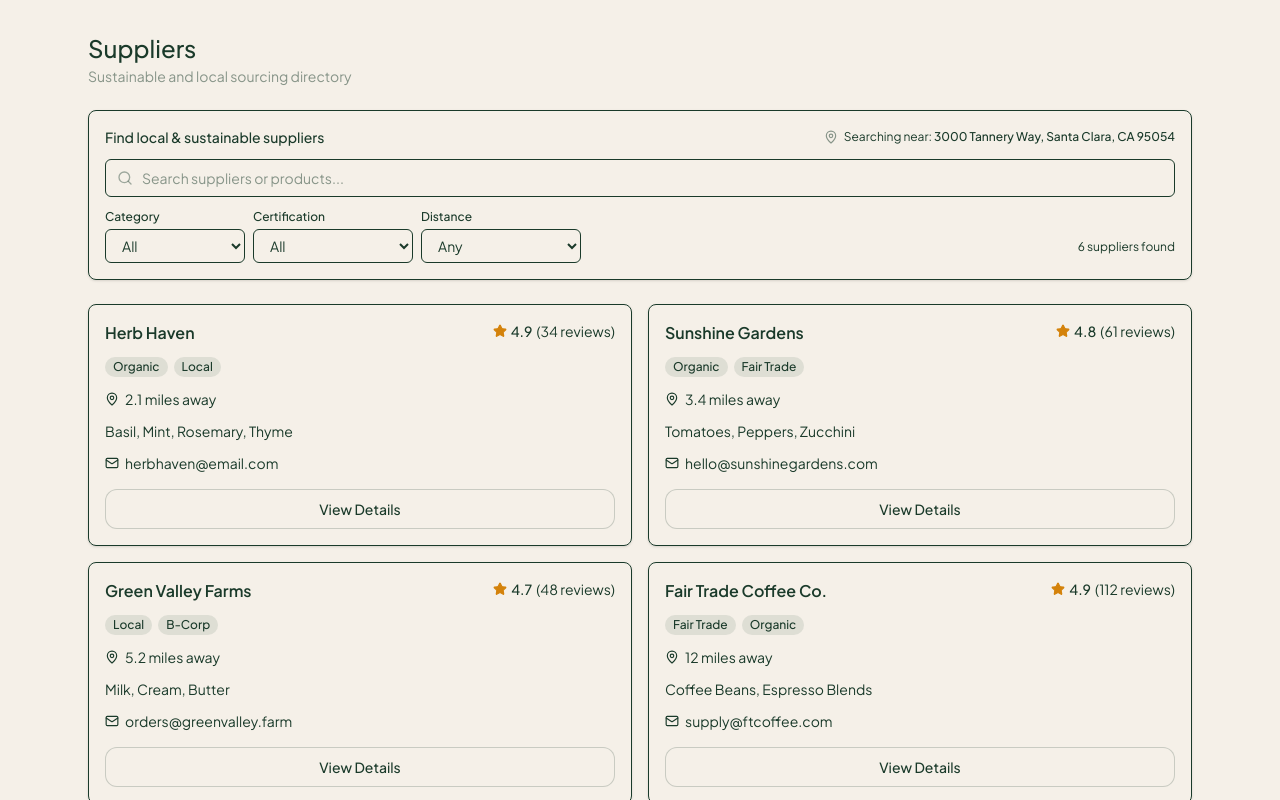
Test: when filtering suppliers by text › shows only matching suppliers when a name is typed
This screenshot has width=1280, height=800.
Type "Herb Haven" into the field with placeholder "Search suppliers or products..." at (640, 178), box [105,159,1175,197]
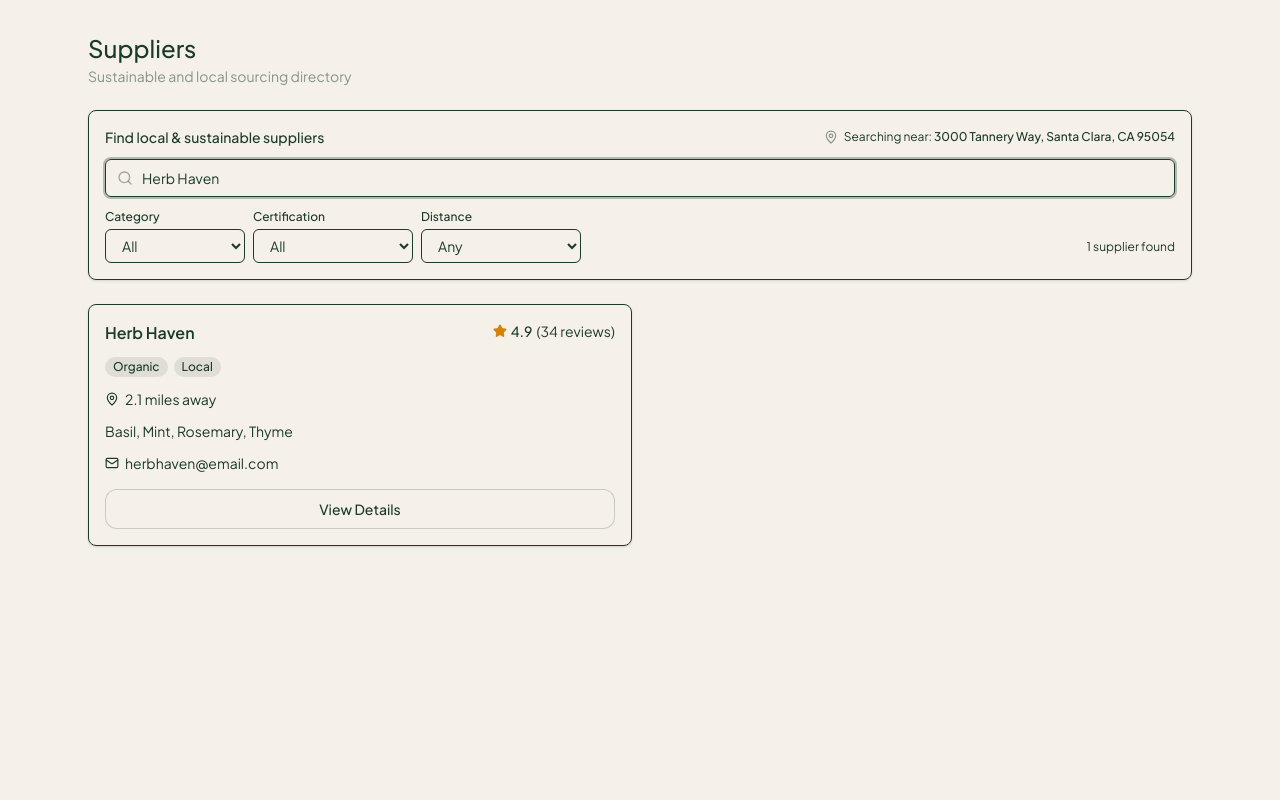
Expected: the heading "Herb Haven" is shown, [105,321,194,345]
Now the heading "Sunshine Gardens" is gone
